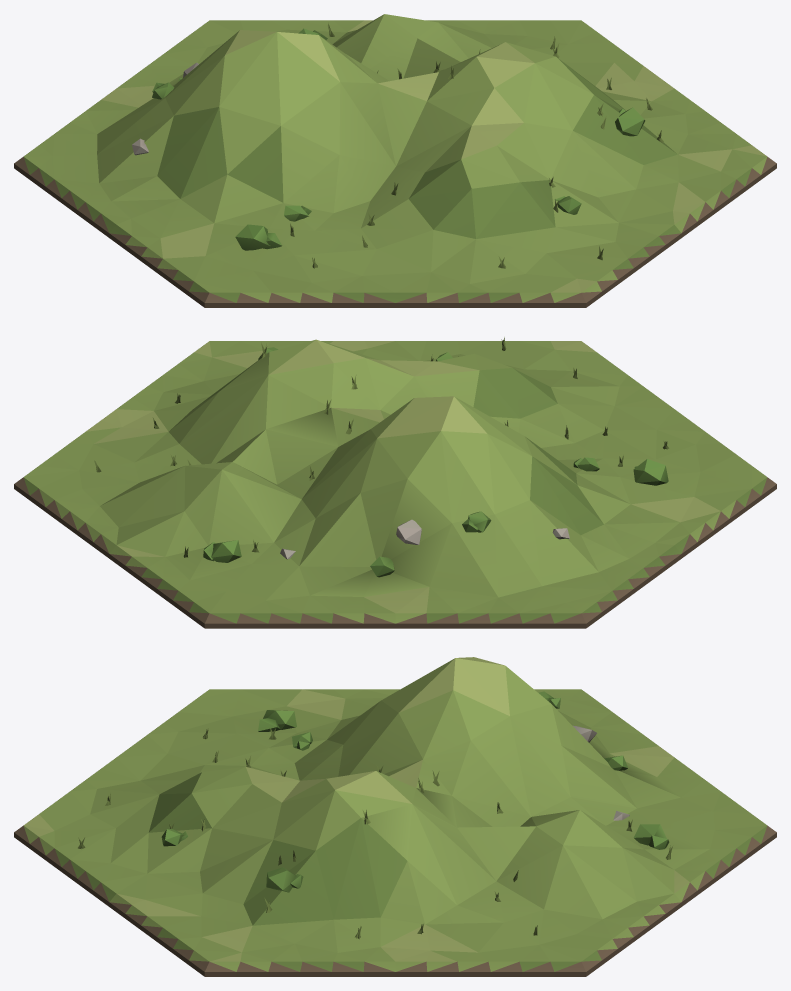
File: hills_a.glb
3 renders of one model, top to bottom at view 1: azimuth 30°, elevation 25°; view 2: azimuth 150°, elevation 25°; view 3: azimuth 270°, elevation 25°, orthographic.
Visible parts, largest first — view 1: hills_a; view 2: hills_a; view 3: hills_a.
Boxes of the visible parts, x1,y1,x2,y2 form: hills_a: [14, 14, 776, 307]; hills_a: [14, 337, 776, 628]; hills_a: [14, 657, 776, 976].
Size of the model in its own units: 17.32 by 3.94 by 20.
